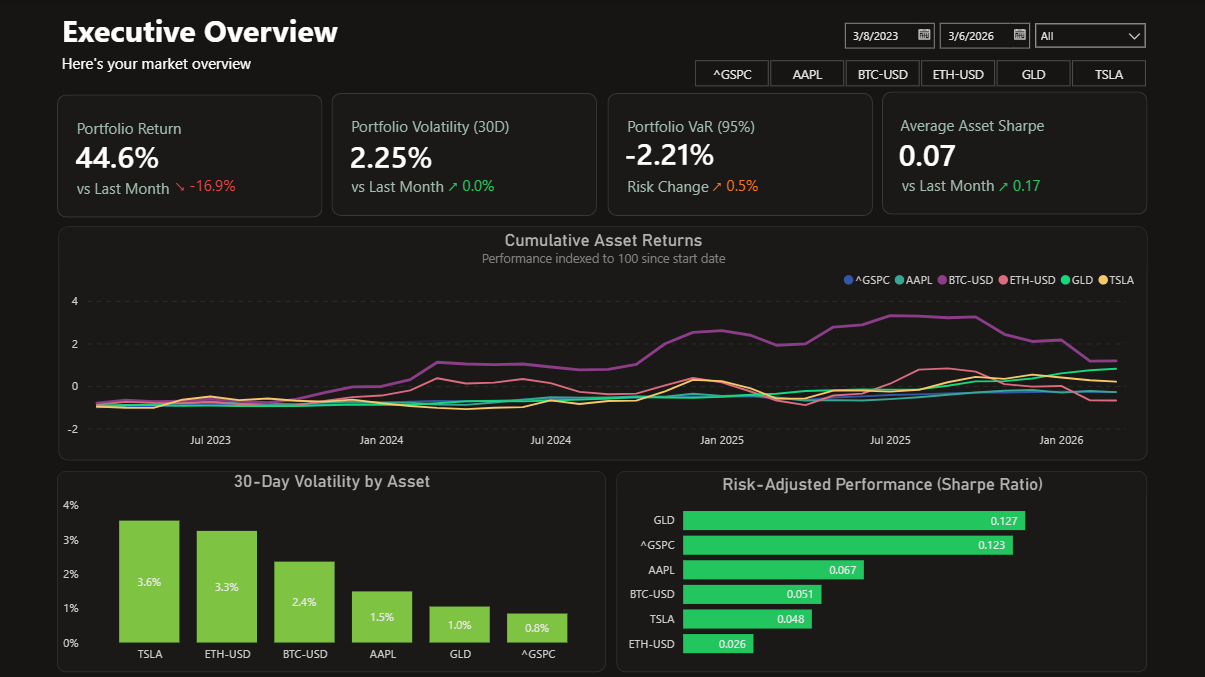

This screenshot's page, from the dashboard's own definition file:
{"tool":"powerbi","page":{"name":"Executive Market Overview","canvas":[1280,720],"ordinal":0},"visuals":[{"type":"textbox","box":[61.1,4.2,323.9,55.2],"z":0},{"type":"textbox","box":[61.1,50.9,323.9,55.2],"z":1000},{"type":"shape","box":[60.8,99.7,281.5,130.4],"z":2000},{"type":"textbox","box":[76.7,118.8,157.5,57.3],"z":3000},{"type":"cardVisual","fields":{"Data":["Fact Portfolio Risk.Portfolio Return %"]},"box":[51.3,132.7,194.1,63.6],"z":4000},{"type":"textbox","box":[76.7,182.4,203.6,57.3],"z":5000},{"type":"shape","box":[351.9,99,281.5,130.4],"z":6000},{"type":"textbox","box":[367.8,118.4,184.5,57.3],"z":7000},{"type":"cardVisual","fields":{"Data":["Fact Portfolio Risk.Latest Portfolio Volatility"]},"box":[342.4,132.7,194.1,63.6],"z":8000},{"type":"textbox","box":[367.8,181.7,203.6,57.3],"z":9000},{"type":"shape","box":[643.8,97.8,281.5,130.4],"z":10000},{"type":"textbox","box":[659.7,116.9,157.5,57.3],"z":11000},{"type":"cardVisual","fields":{"Data":["Fact Portfolio Risk.Latest Portfolio VaR"]},"box":[633.4,129.5,194.1,63.6],"z":12000},{"type":"textbox","box":[659.7,180.5,203.6,57.3],"z":13000},{"type":"shape","box":[934.8,97.1,281.5,130.4],"z":14000},{"type":"textbox","box":[950,116.8,168.6,57.3],"z":15000},{"type":"cardVisual","fields":{"Data":["Fact Portfolio Risk.Average Sharpe"]},"box":[924.5,131.1,194.1,63.6],"z":16000},{"type":"textbox","box":[950.7,179.8,203.6,57.3],"z":17000},{"type":"cardVisual","fields":{"Data":["Fact Portfolio Risk.Portfolio Return Change Short"]},"box":[155.9,159.1,176.5,73.4],"z":18000},{"type":"cardVisual","fields":{"Data":["Fact Portfolio Risk.Portfolio Volatility Change Short"]},"box":[446.1,159.1,176.5,73.4],"z":19000},{"type":"cardVisual","fields":{"Data":["Fact Portfolio Risk.Portfolio VaR Change Short"]},"box":[725.7,159.1,176.5,73.4],"z":20000},{"type":"lineChart","title":"Cumulative Asset Returns","fields":{"Category":["Dim Date.YearMonth"],"Y":["Fact Asset Risk.Asset Return %"],"Series":["Fact Asset Risk.ticker"]},"box":[62,240.2,1154.8,248.1],"z":21000},{"type":"cardVisual","fields":{"Data":["Fact Portfolio Risk.Sharpe Change Short"]},"box":[1029.9,159.1,176.5,73.4],"z":22000},{"type":"clusteredColumnChart","title":"30-Day Volatility by Asset","fields":{"Category":["Fact Asset Risk.ticker"],"Y":["Avg(Fact Asset Risk.volatility_30d)"]},"box":[61.2,499.9,582,213.2],"z":23000},{"type":"clusteredBarChart","title":"Risk-Adjusted Performance (Sharpe Ratio)","fields":{"Category":["Fact Asset Risk.ticker"],"Y":["Avg(Fact Asset Risk.sharpe_ratio_30d)"]},"box":[653.7,499.9,562.8,213.2],"z":24000},{"type":"slicer","fields":{"Values":["Dim Date.Date"]},"box":[882.8,19.1,246.5,44.5],"z":25000},{"type":"slicer","fields":{"Values":["Dim Asset.ticker"]},"box":[711,62,528.1,36.6],"z":26000},{"type":"slicer","fields":{"Values":["Dim Asset.asset_class"]},"box":[1088,1.6,136.8,55.7],"z":27000}]}

Visuals, with their boxes in screenshot pixels (x1, y1, x2, y2), scaled from the page's 1280x720 canvas onto the 1205x677 screenshot:
textbox: [x1=58, y1=4, x2=362, y2=56]
textbox: [x1=58, y1=48, x2=362, y2=100]
shape: [x1=57, y1=94, x2=322, y2=216]
textbox: [x1=72, y1=112, x2=220, y2=166]
cardVisual - Fact Portfolio Risk.Portfolio Return %: [x1=48, y1=125, x2=231, y2=185]
textbox: [x1=72, y1=172, x2=264, y2=225]
shape: [x1=331, y1=93, x2=596, y2=216]
textbox: [x1=346, y1=111, x2=520, y2=165]
cardVisual - Fact Portfolio Risk.Latest Portfolio Volatility: [x1=322, y1=125, x2=505, y2=185]
textbox: [x1=346, y1=171, x2=538, y2=225]
shape: [x1=606, y1=92, x2=871, y2=215]
textbox: [x1=621, y1=110, x2=769, y2=164]
cardVisual - Fact Portfolio Risk.Latest Portfolio VaR: [x1=596, y1=122, x2=779, y2=182]
textbox: [x1=621, y1=170, x2=813, y2=224]
shape: [x1=880, y1=91, x2=1145, y2=214]
textbox: [x1=894, y1=110, x2=1053, y2=164]
cardVisual - Fact Portfolio Risk.Average Sharpe: [x1=870, y1=123, x2=1053, y2=183]
textbox: [x1=895, y1=169, x2=1087, y2=223]
cardVisual - Fact Portfolio Risk.Portfolio Return Change Short: [x1=147, y1=150, x2=313, y2=219]
cardVisual - Fact Portfolio Risk.Portfolio Volatility Change Short: [x1=420, y1=150, x2=586, y2=219]
cardVisual - Fact Portfolio Risk.Portfolio VaR Change Short: [x1=683, y1=150, x2=849, y2=219]
"Cumulative Asset Returns" lineChart: [x1=58, y1=226, x2=1146, y2=459]
cardVisual - Fact Portfolio Risk.Sharpe Change Short: [x1=970, y1=150, x2=1136, y2=219]
"30-Day Volatility by Asset" clusteredColumnChart: [x1=58, y1=470, x2=606, y2=671]
"Risk-Adjusted Performance (Sharpe Ratio)" clusteredBarChart: [x1=615, y1=470, x2=1145, y2=671]
slicer - Dim Date.Date: [x1=831, y1=18, x2=1063, y2=60]
slicer - Dim Asset.ticker: [x1=669, y1=58, x2=1166, y2=93]
slicer - Dim Asset.asset_class: [x1=1024, y1=2, x2=1153, y2=54]
